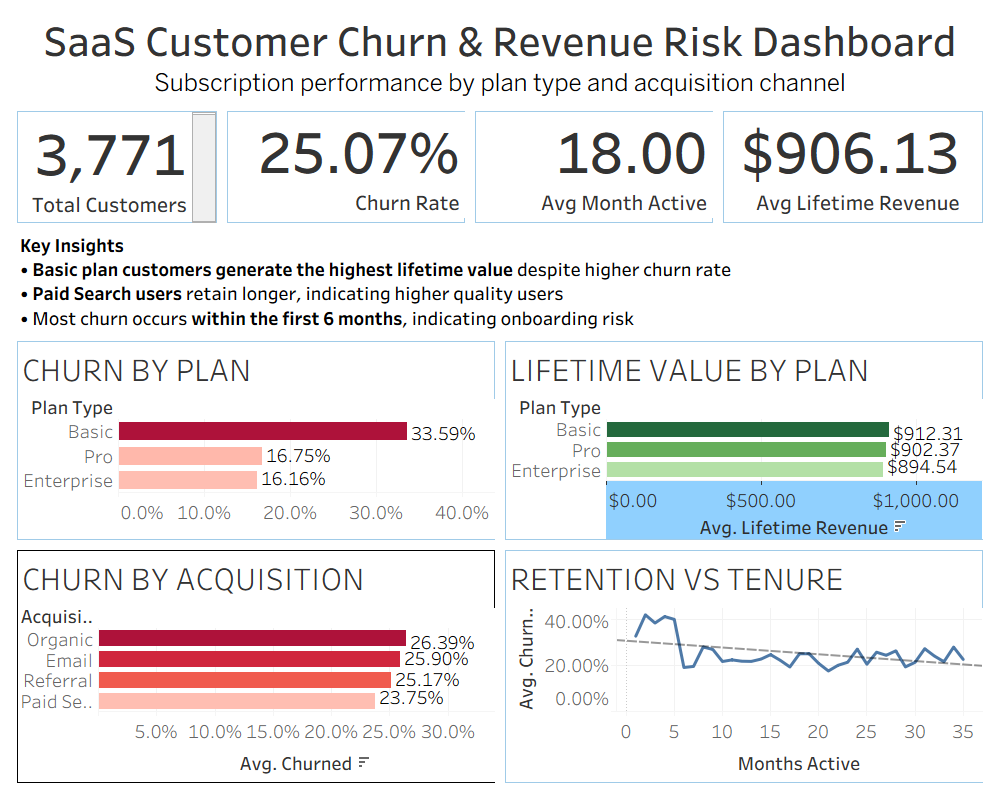

This screenshot's page, from the dashboard's own definition file:
{"tool":"tableau","page":{"name":"SaaS Customer Churn & Revenue Risk Dashboard","canvas":[1000,800],"ordinal":0},"visuals":[{"type":"title","box":[8,8,984,94]},{"type":"worksheet","title":"KPI - Total Customers","mark":"Automatic","box":[12,106,210,124]},{"type":"worksheet","title":"KPI - Churn Rate","mark":"Automatic","box":[222,106,248,124]},{"type":"worksheet","title":"KPI -  Avg Lifetime","mark":"Automatic","box":[470,106,248,124]},{"type":"worksheet","title":"KPI - Avg Lifetime Revenue","mark":"Automatic","box":[718,106,270,124]},{"type":"text","box":[12,230,976,103]},{"type":"worksheet","title":"CHURN BY PLAN","mark":"Bar","rows":["plan_type"],"cols":["churned"],"box":[12,333,488,212]},{"type":"worksheet","title":"LIFETIME VALUE BY PLAN","mark":"Automatic","rows":["plan_type"],"cols":["lifetime_revenue"],"box":[500,333,488,212]},{"type":"worksheet","title":"CHURN BY ACQUISITION","mark":"Automatic","rows":["acquisition_channel"],"cols":["churned"],"box":[12,545,488,243]},{"type":"worksheet","title":"RETENTION VS TENURE","mark":"Line","rows":["churned"],"cols":["months_active"],"box":[500,545,488,243]}]}

Visuals, with their boxes in screenshot pixels (x1, y1, x2, y2), scaled from the page's 1000x800 canvas onto the 1000x800 screenshot:
title: pyautogui.locateOnScreen(8, 8, 992, 102)
"KPI - Total Customers" worksheet: pyautogui.locateOnScreen(12, 106, 222, 230)
"KPI - Churn Rate" worksheet: pyautogui.locateOnScreen(222, 106, 470, 230)
"KPI -  Avg Lifetime" worksheet: pyautogui.locateOnScreen(470, 106, 718, 230)
"KPI - Avg Lifetime Revenue" worksheet: pyautogui.locateOnScreen(718, 106, 988, 230)
text: pyautogui.locateOnScreen(12, 230, 988, 333)
"CHURN BY PLAN" worksheet (Bar marks): pyautogui.locateOnScreen(12, 333, 500, 545)
"LIFETIME VALUE BY PLAN" worksheet: pyautogui.locateOnScreen(500, 333, 988, 545)
"CHURN BY ACQUISITION" worksheet: pyautogui.locateOnScreen(12, 545, 500, 788)
"RETENTION VS TENURE" worksheet (Line marks): pyautogui.locateOnScreen(500, 545, 988, 788)
